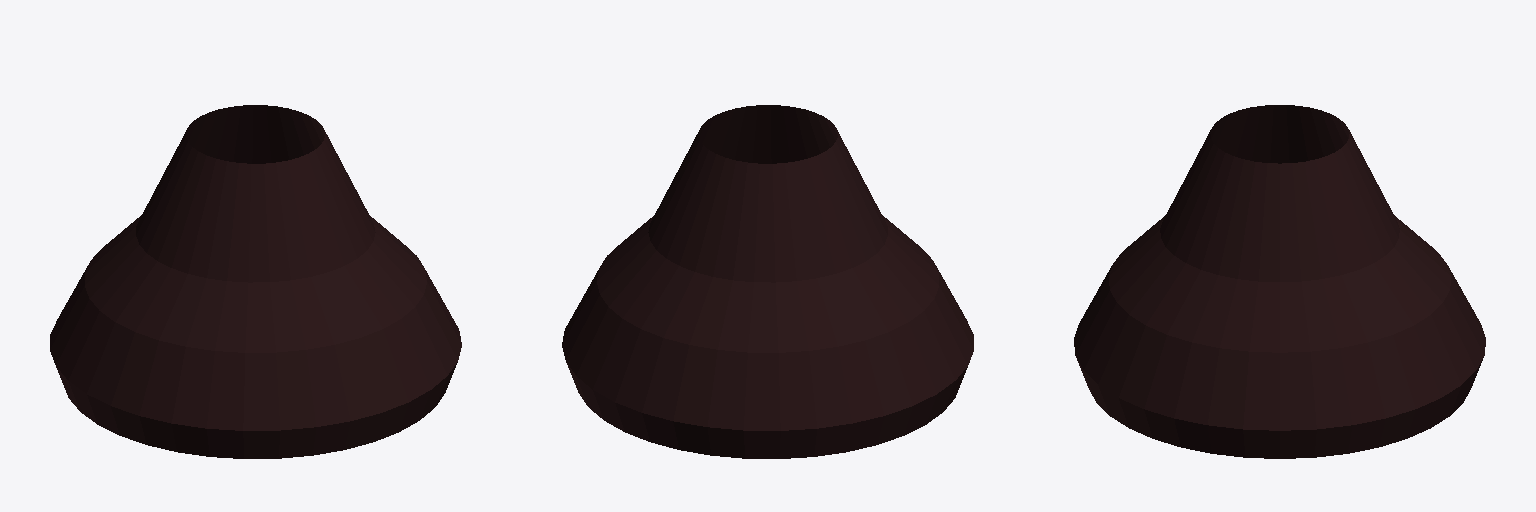
Rendered from bag.obj.
3 renders of one model, left to right at view 1: azimuth 30°, elevation 25°; view 2: azimuth 150°, elevation 25°; view 3: azimuth 270°, elevation 25°, orthographic.
Visible parts, largest first — view 1: Cylinder002; view 2: Cylinder002; view 3: Cylinder002.
Boxes of the visible parts, <box> form: Cylinder002: <box>50,105,461,458</box>; Cylinder002: <box>562,105,973,458</box>; Cylinder002: <box>1074,105,1485,458</box>.
Size of the model in its own units: 384 by 250 by 385.